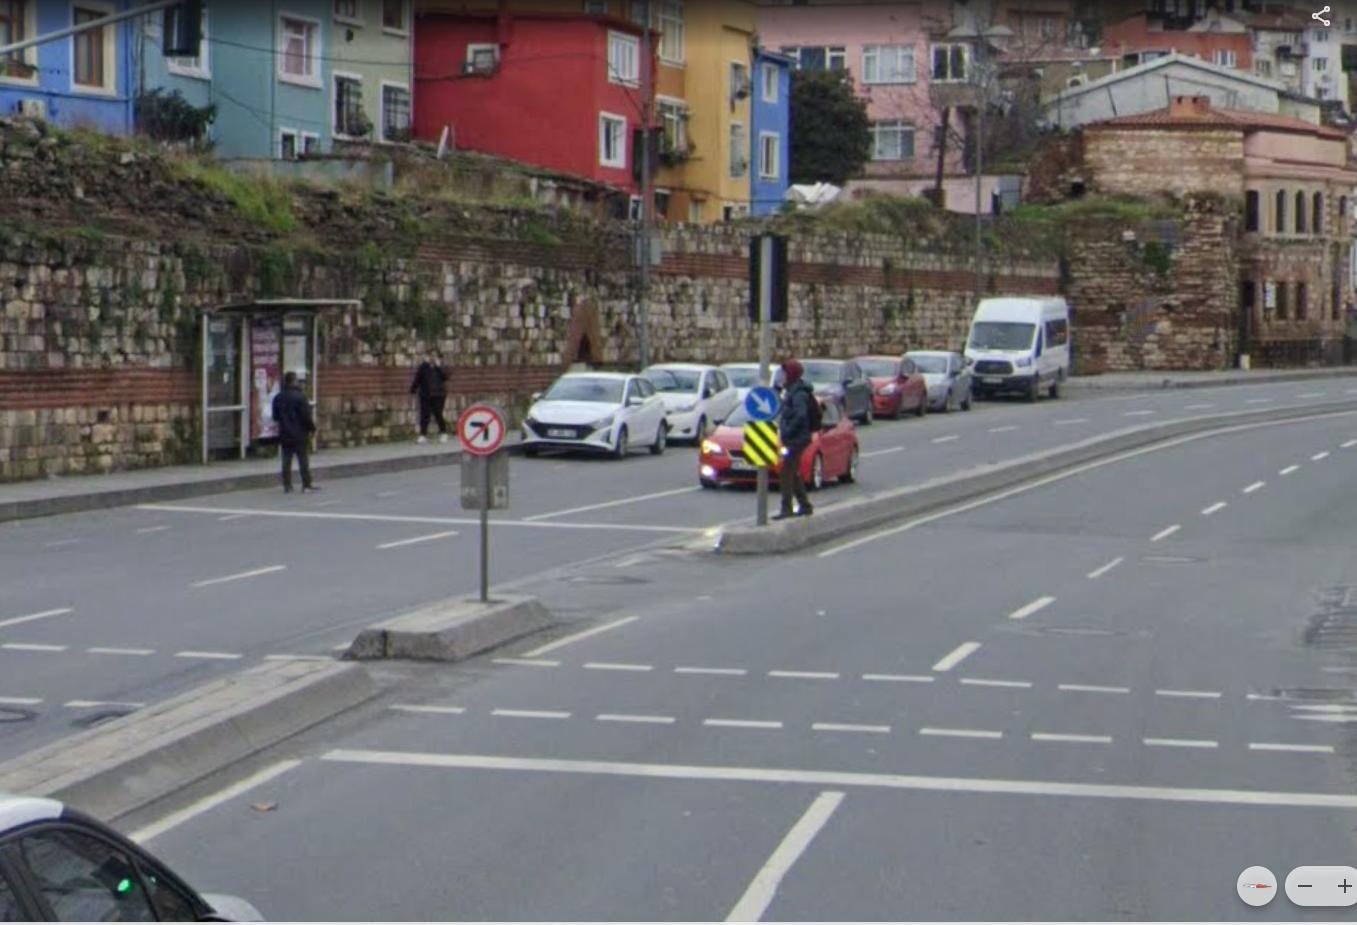leftturnsareforbidden: (467, 408, 501, 449)
